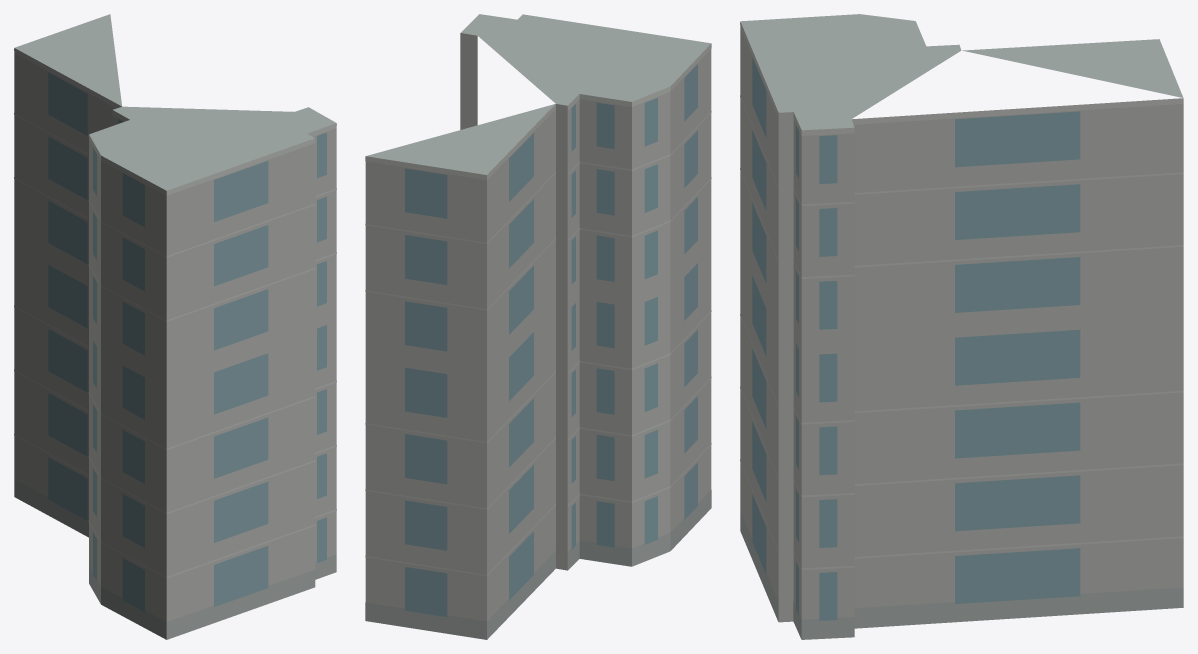
Rendered from survey-upis-32747967.glb.
The picture shows the model from 3 angles, left to right: view 1: azimuth 30°, elevation 25°; view 2: azimuth 150°, elevation 25°; view 3: azimuth 270°, elevation 25°; orthographic projection. The views are drawn at different scales.
Visible parts, largest first — view 1: survey-upis-32747967.tmp; view 2: survey-upis-32747967.tmp; view 3: survey-upis-32747967.tmp.
Part boxes in pixels (bbox=[...]): survey-upis-32747967.tmp: bbox=[14, 14, 336, 639]; survey-upis-32747967.tmp: bbox=[365, 14, 711, 639]; survey-upis-32747967.tmp: bbox=[740, 14, 1183, 639].
Size of the model in its own units: 10.57 by 21.55 by 17.01.
